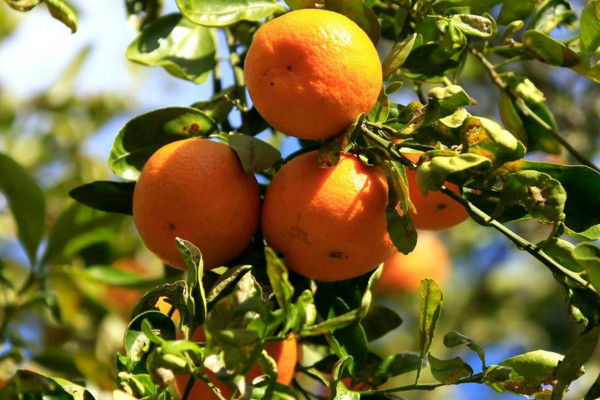orange: (245, 10, 380, 141), (263, 150, 392, 281), (131, 138, 259, 269), (170, 305, 296, 400), (391, 123, 482, 232)
